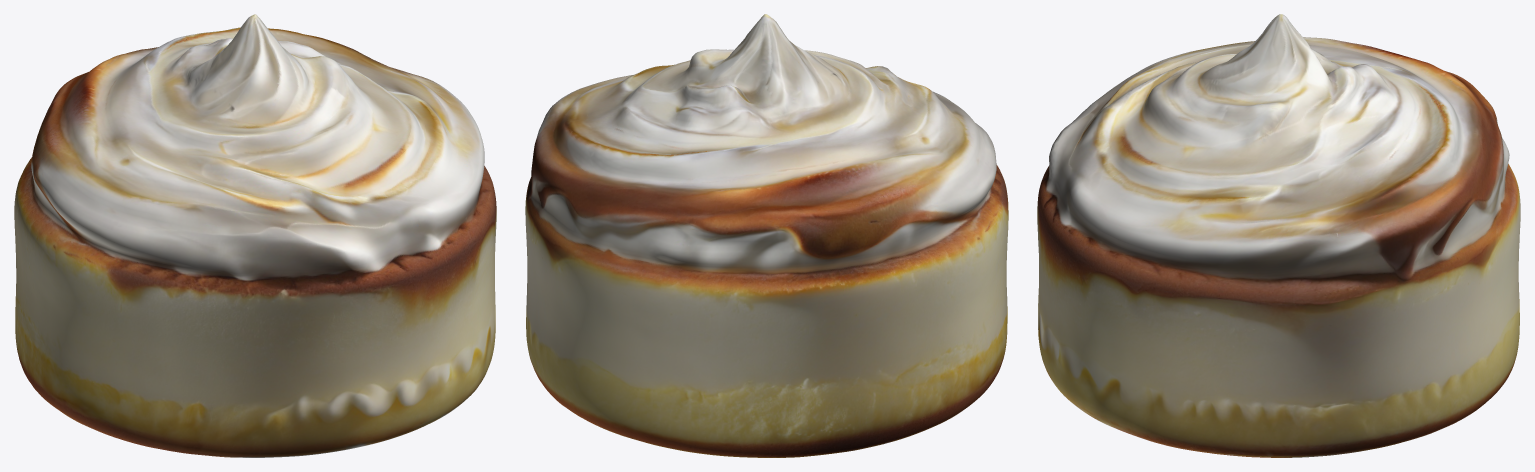
File: cake5.fbx
3 views of the same model, side by side, from view 1: azimuth 30°, elevation 25°; view 2: azimuth 150°, elevation 25°; view 3: azimuth 270°, elevation 25° (orthographic).
Visible parts, largest first — view 1: Mesh_0; view 2: Mesh_0; view 3: Mesh_0.
Boxes of the visible parts, bbox=[...] form: Mesh_0: bbox=[14, 14, 496, 457]; Mesh_0: bbox=[525, 14, 1008, 457]; Mesh_0: bbox=[1037, 14, 1520, 457].
Size of the model in its own units: 200 by 161 by 200.
Materials: 1 (1 with a texture image).
